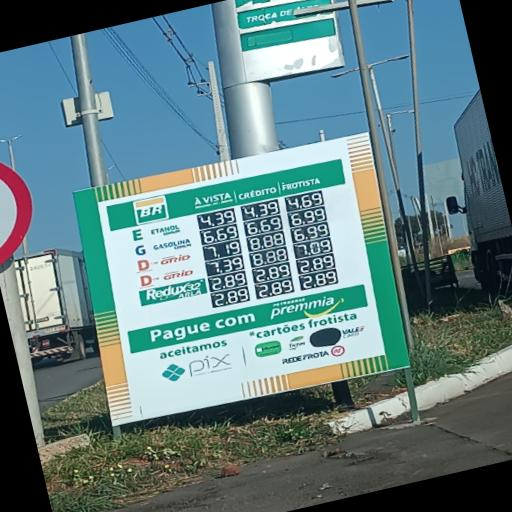ETANOL: (128, 216, 185, 246)
GASOLINA C: (131, 232, 198, 261)
S10: (137, 265, 198, 288)
S500: (134, 248, 198, 277)
placa: (97, 144, 394, 416)
preco: (196, 206, 238, 230), (199, 223, 239, 246), (203, 239, 242, 260), (206, 255, 245, 276)
